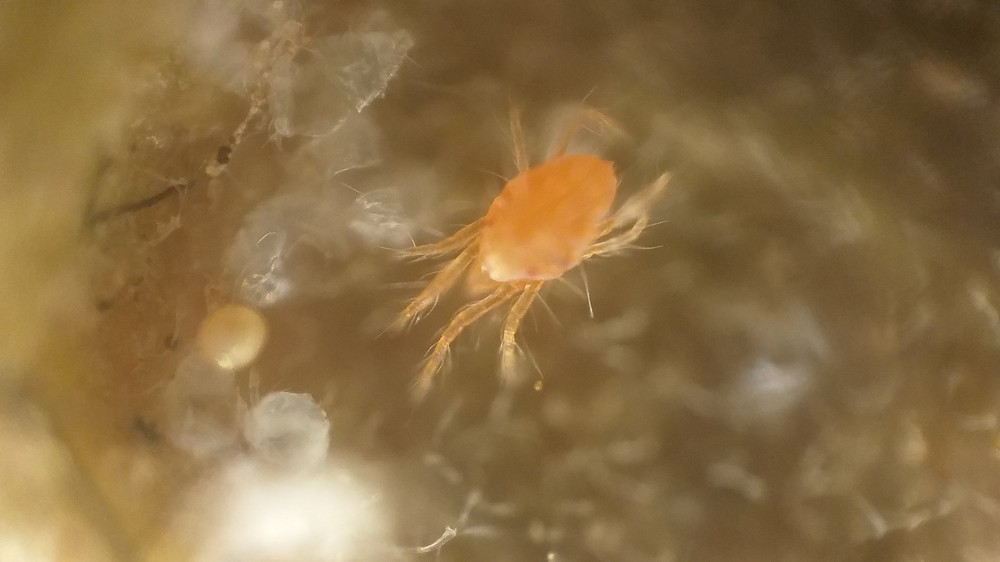Aracnido Rojo: (373, 84, 704, 413)
